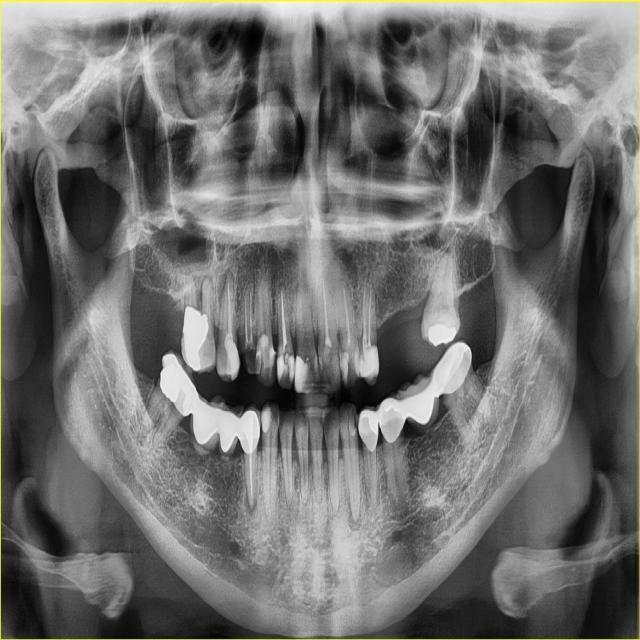Caries: (239, 343, 259, 373), (349, 407, 356, 432), (441, 393, 451, 402)
Crown: (398, 371, 440, 432), (162, 349, 198, 418), (190, 396, 224, 459), (433, 341, 471, 396), (377, 391, 405, 443), (218, 405, 243, 459), (239, 404, 261, 454), (355, 405, 378, 451)
Filling: (182, 306, 208, 373), (256, 332, 275, 384), (294, 355, 315, 393), (277, 346, 295, 390), (356, 345, 378, 381), (224, 332, 240, 380), (429, 323, 455, 346), (339, 349, 349, 386), (330, 355, 340, 386), (261, 403, 271, 433)
Mandibular Canal: (403, 257, 568, 544), (86, 349, 230, 554)
Missing teeth: (376, 290, 437, 372)
Periapical lesion: (347, 501, 362, 534), (199, 274, 214, 301), (221, 269, 236, 291), (244, 495, 255, 515), (277, 284, 288, 295)
Root Canal Treatment: (341, 281, 353, 344), (324, 278, 331, 347), (281, 292, 287, 353), (363, 290, 367, 351), (368, 289, 372, 349), (227, 282, 231, 334), (245, 295, 248, 346), (250, 290, 252, 347), (250, 455, 252, 504)
